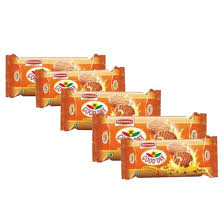gooday-small: (92, 115, 207, 162), (6, 52, 106, 99), (34, 66, 126, 115), (59, 85, 161, 128), (120, 138, 219, 178)
